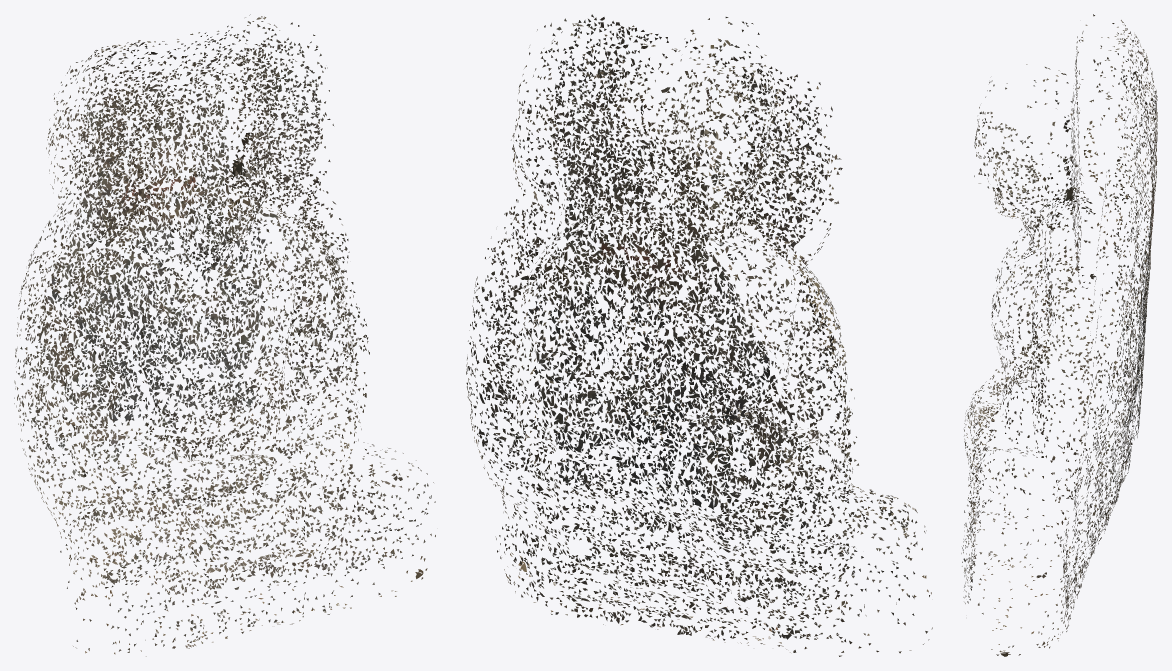
3 renders of one model, left to right at view 1: azimuth 30°, elevation 25°; view 2: azimuth 150°, elevation 25°; view 3: azimuth 270°, elevation 25°, orthographic. The views are drawn at different scales.
Parts seen in each view (by area): view 1: statue-034; view 2: statue-034; view 3: statue-034.
Boxes of the visible parts, x1,y1,x2,y2 form: statue-034: (14, 14, 435, 656); statue-034: (466, 14, 932, 656); statue-034: (961, 14, 1157, 656).
Bounding box in the file's own units: 0.6771 × 0.9983 × 0.3409.
1 material, 1 textured.
